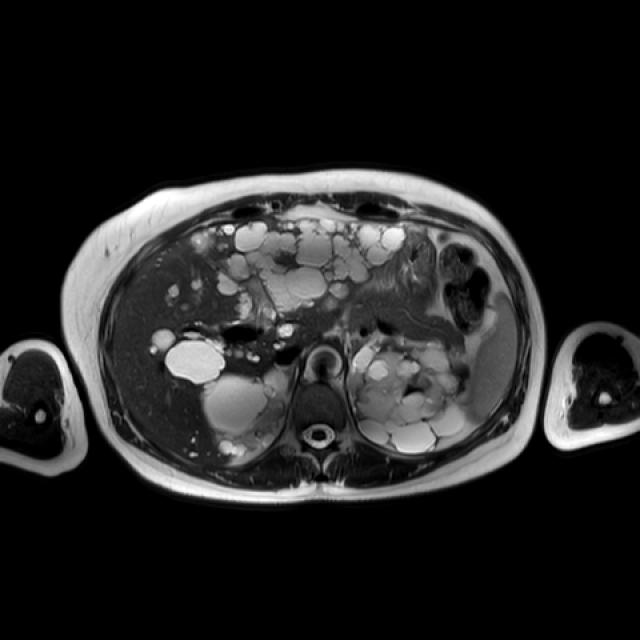sag: (206, 372, 288, 462)
sol: (348, 342, 468, 451)
